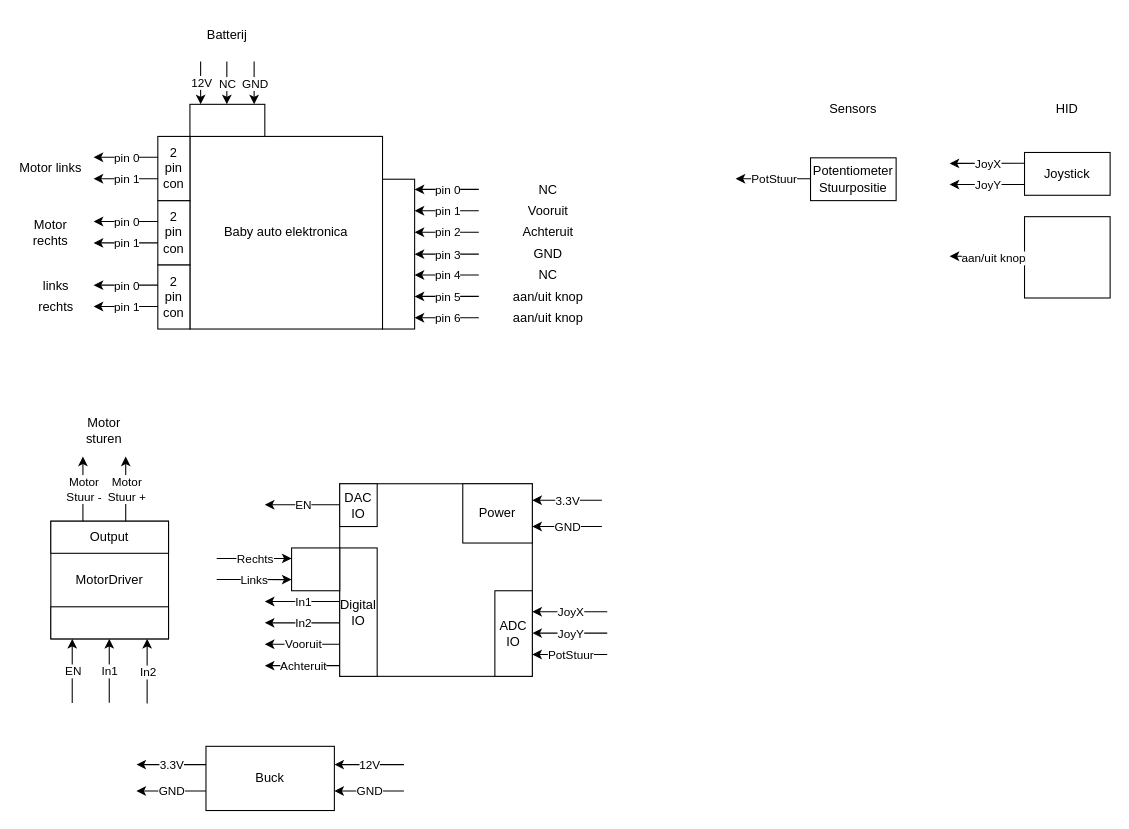
This 1129x829 diagram has some shape labels left out. Here are the shapes that lost their labels. From the top down, the box of each, then its label:
(189, 103, 265, 136): 3 pin con
(381, 178, 415, 329): 7 p i n c o n
(1023, 216, 1110, 298): Schakelaar
(291, 547, 340, 591): Opto- Coupler 12->3.3
(339, 483, 532, 676): microController
(50, 606, 169, 639): Input
